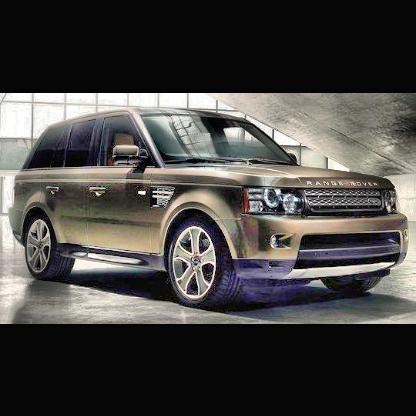Land Rover Range Rover SUV 2012: (11, 106, 411, 310)
